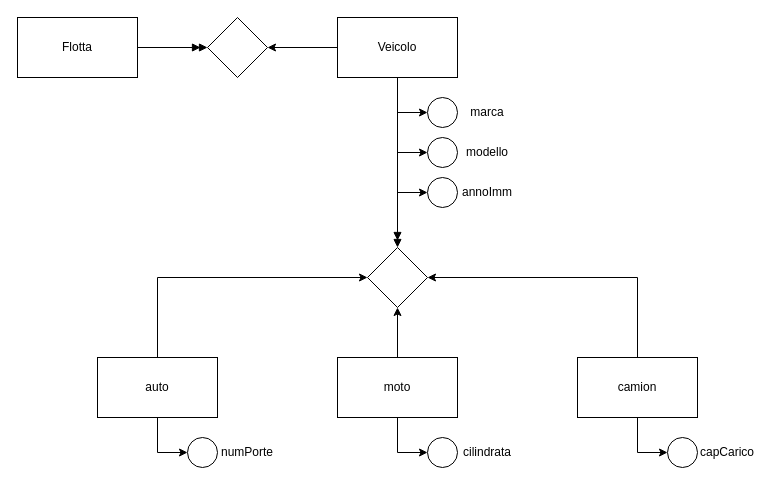
Image size: 775x485. Some labels were removed from this diagram. Here are the shapes that lost their labels. From the top down, the centre of each, then its label:
the point at 237,47: comprende
the point at 397,277: possiede
